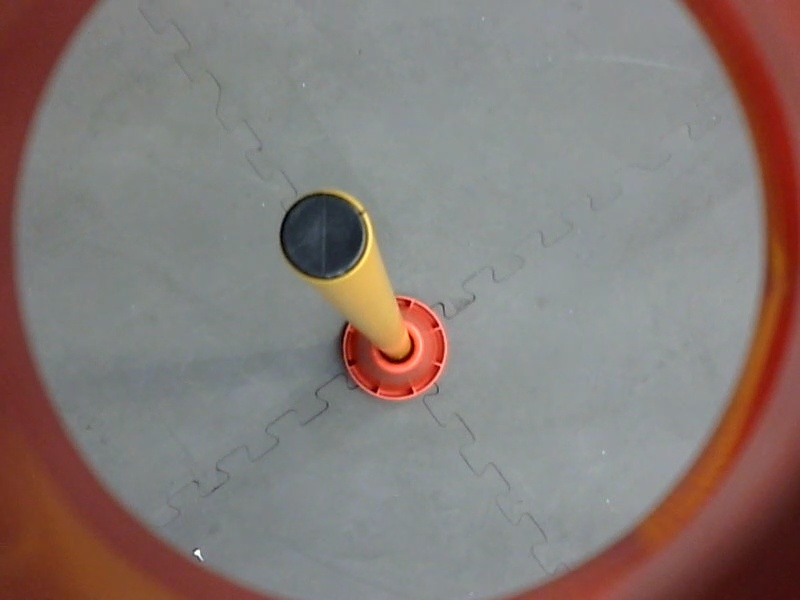tip: (272, 184, 378, 289)
